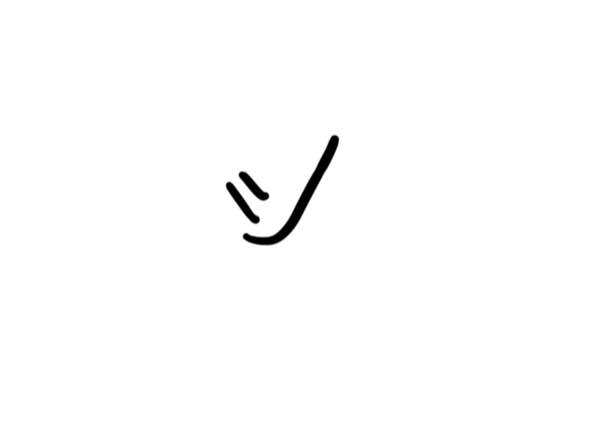shi: (221, 131, 358, 249)
